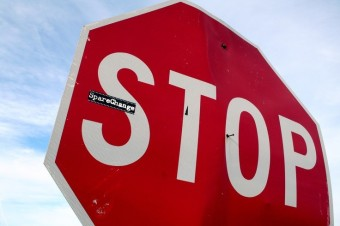SS: (55, 4, 326, 226)
